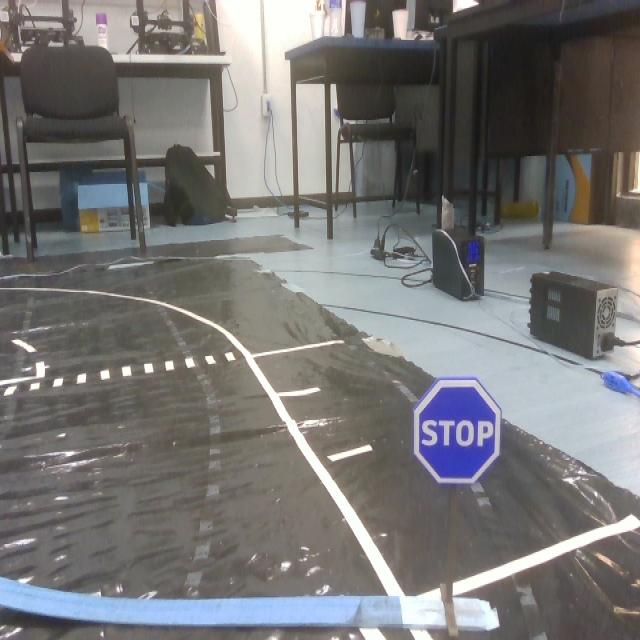no_entry: (417, 380, 495, 496)
